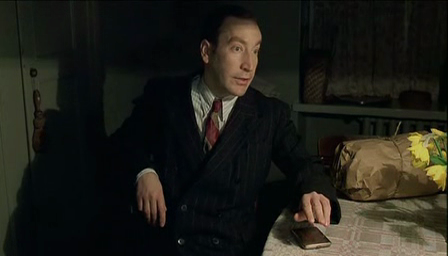face: (217, 30, 261, 96)
ms: (1, 1, 448, 256)
person: (102, 9, 341, 256)
